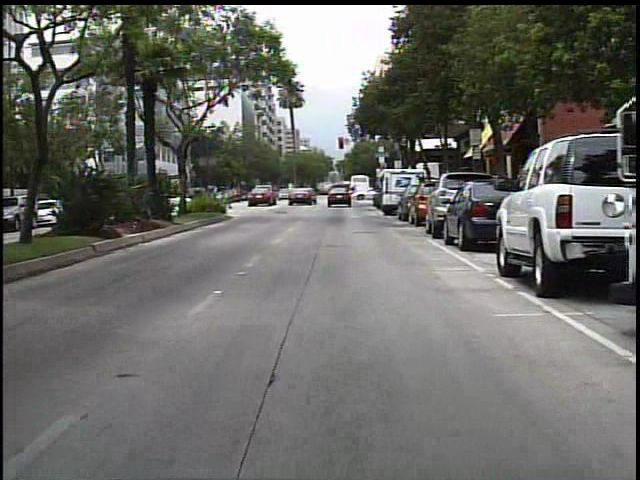person: (345, 181, 361, 202), (302, 184, 316, 205)
